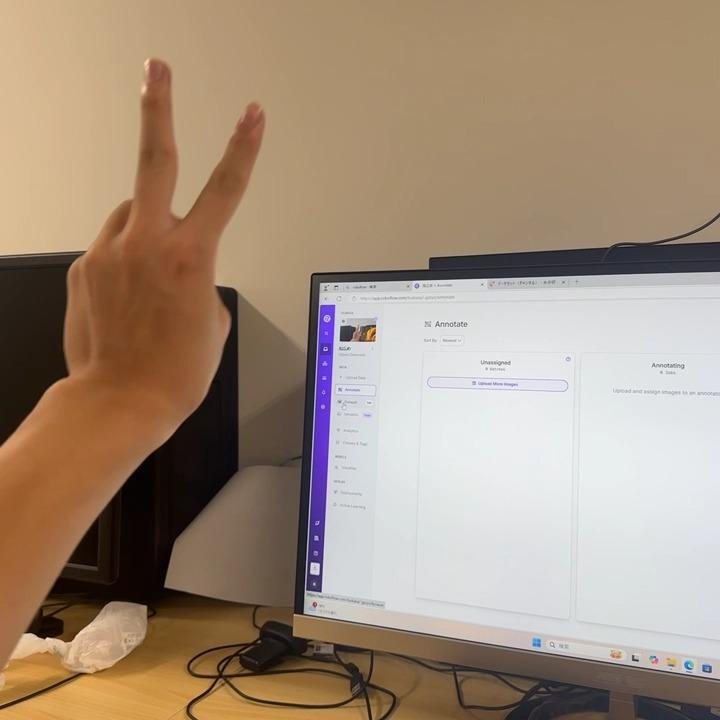without_gloves: (57, 10, 283, 492)
